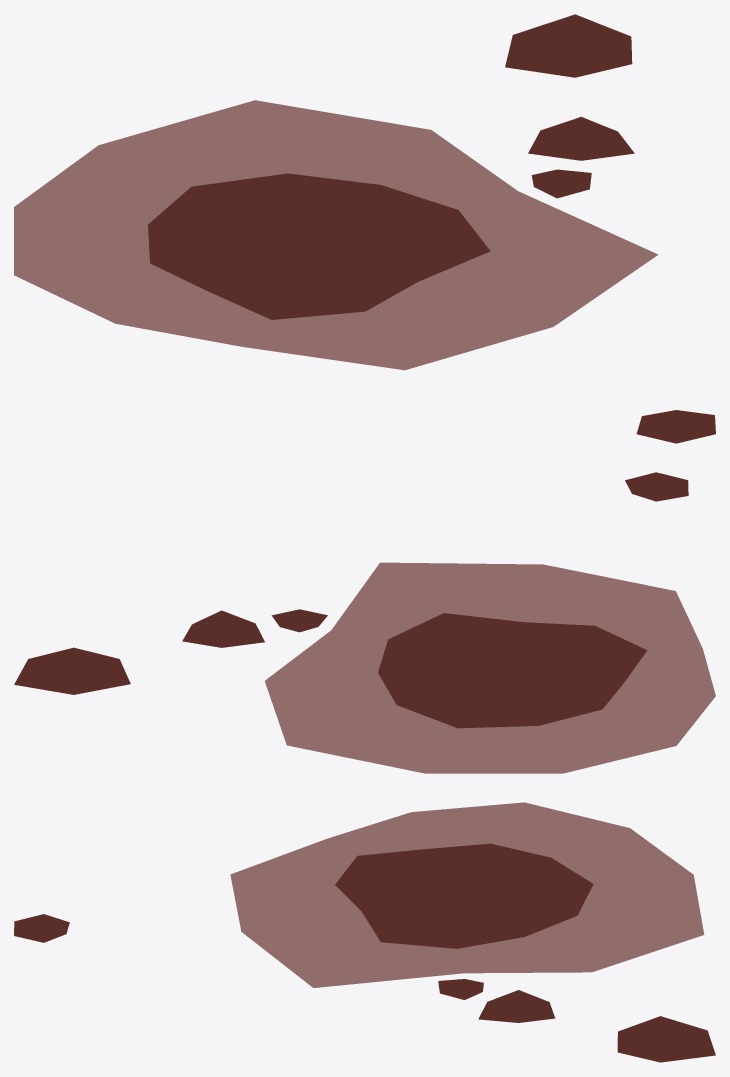
File: blood_snow_fresh.glb
The picture shows the model from 3 angles, top to bottom: view 1: azimuth 30°, elevation 25°; view 2: azimuth 150°, elevation 25°; view 3: azimuth 270°, elevation 25°; orthographic projection. The views are drawn at different scales.
Parts seen in each view (by area): view 1: blood_snow_fresh; view 2: blood_snow_fresh; view 3: blood_snow_fresh.
Part boxes in pixels (x1,y1,x2,y2): blood_snow_fresh: [14, 14, 715, 443]; blood_snow_fresh: [14, 472, 715, 773]; blood_snow_fresh: [14, 802, 715, 1062].
Size of the model in its own units: 3.16 by 0.003 by 3.6.
